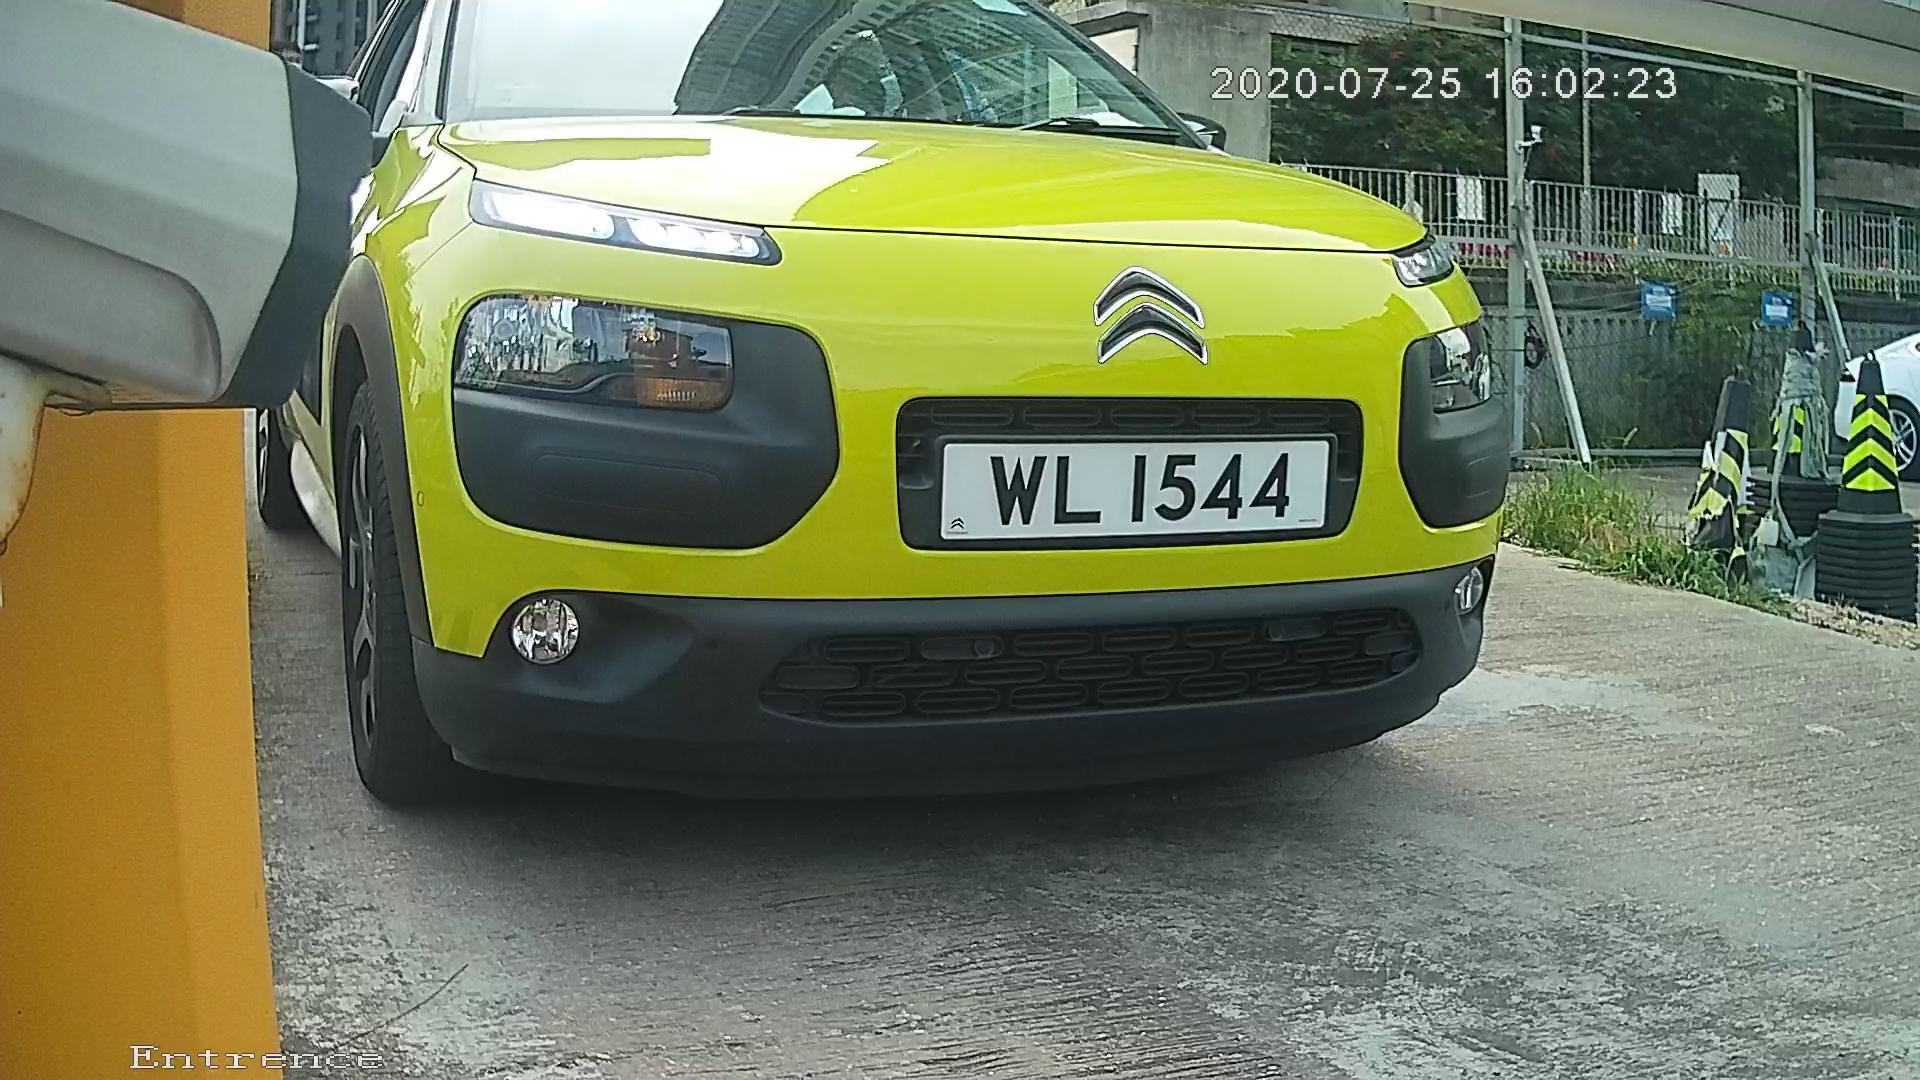Car: (129, 1, 1612, 849)
License Plate: (909, 425, 1355, 555)
